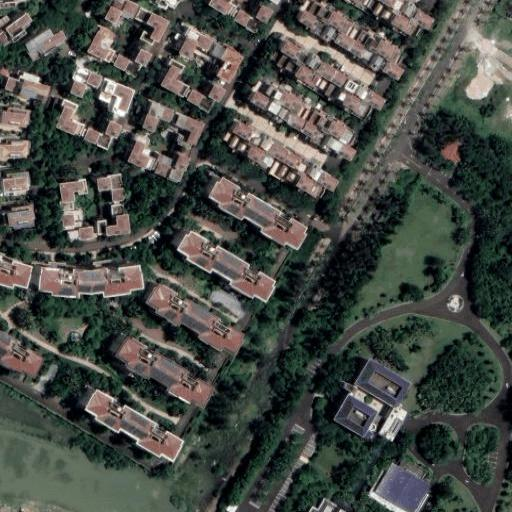building: (267, 39, 381, 119), (220, 117, 334, 197), (248, 77, 361, 157), (295, 0, 409, 79), (74, 382, 176, 456), (139, 279, 241, 353), (171, 225, 273, 299), (199, 171, 301, 245), (109, 331, 210, 405), (31, 263, 137, 295), (349, 0, 431, 39), (373, 462, 429, 512), (355, 357, 411, 407), (333, 394, 379, 438), (210, 43, 245, 84), (112, 47, 154, 80), (175, 28, 216, 61), (87, 25, 120, 65), (233, 5, 274, 37), (432, 132, 468, 168), (136, 7, 169, 46), (103, 80, 136, 119), (70, 66, 109, 99), (184, 84, 225, 115), (0, 13, 35, 49), (82, 120, 121, 151), (127, 136, 159, 173), (56, 102, 88, 139), (160, 61, 191, 99), (141, 101, 178, 132), (172, 113, 204, 148), (153, 154, 189, 183), (379, 409, 409, 443), (16, 72, 49, 102), (24, 29, 54, 61), (96, 173, 124, 202), (0, 103, 27, 130), (0, 170, 30, 194), (59, 180, 88, 204), (3, 207, 35, 228), (40, 31, 68, 54), (0, 134, 26, 158), (106, 214, 131, 236), (65, 225, 95, 243), (62, 207, 83, 229), (310, 497, 339, 512), (5, 77, 20, 92), (96, 218, 107, 237), (110, 204, 125, 216), (62, 203, 76, 210)
